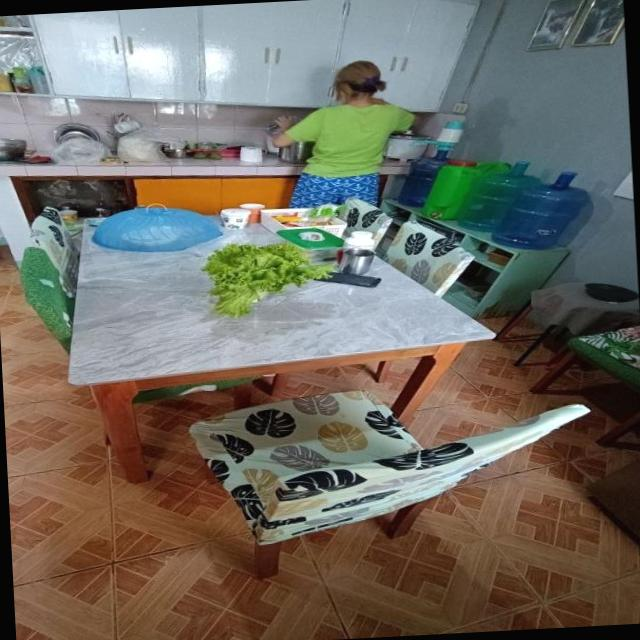Lettuce-Ready-to-Harvest: (204, 240, 333, 313)
